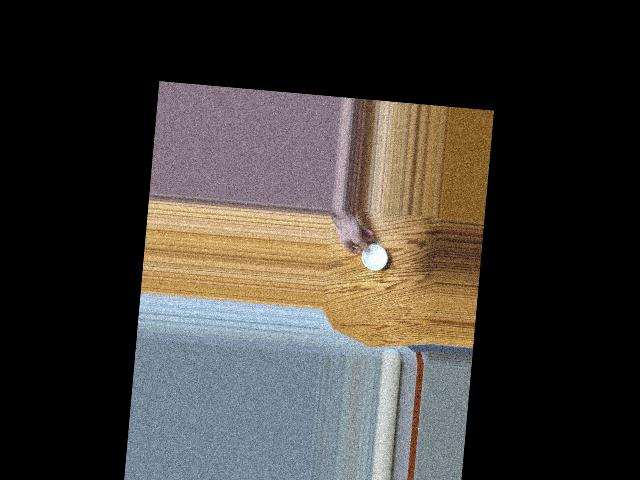cotage: (357, 240, 387, 271)
